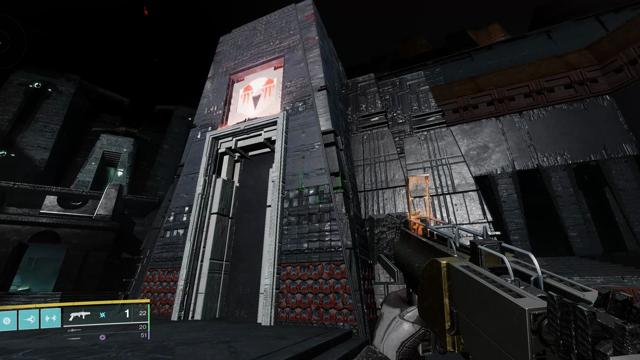give: (236, 77, 277, 115)
